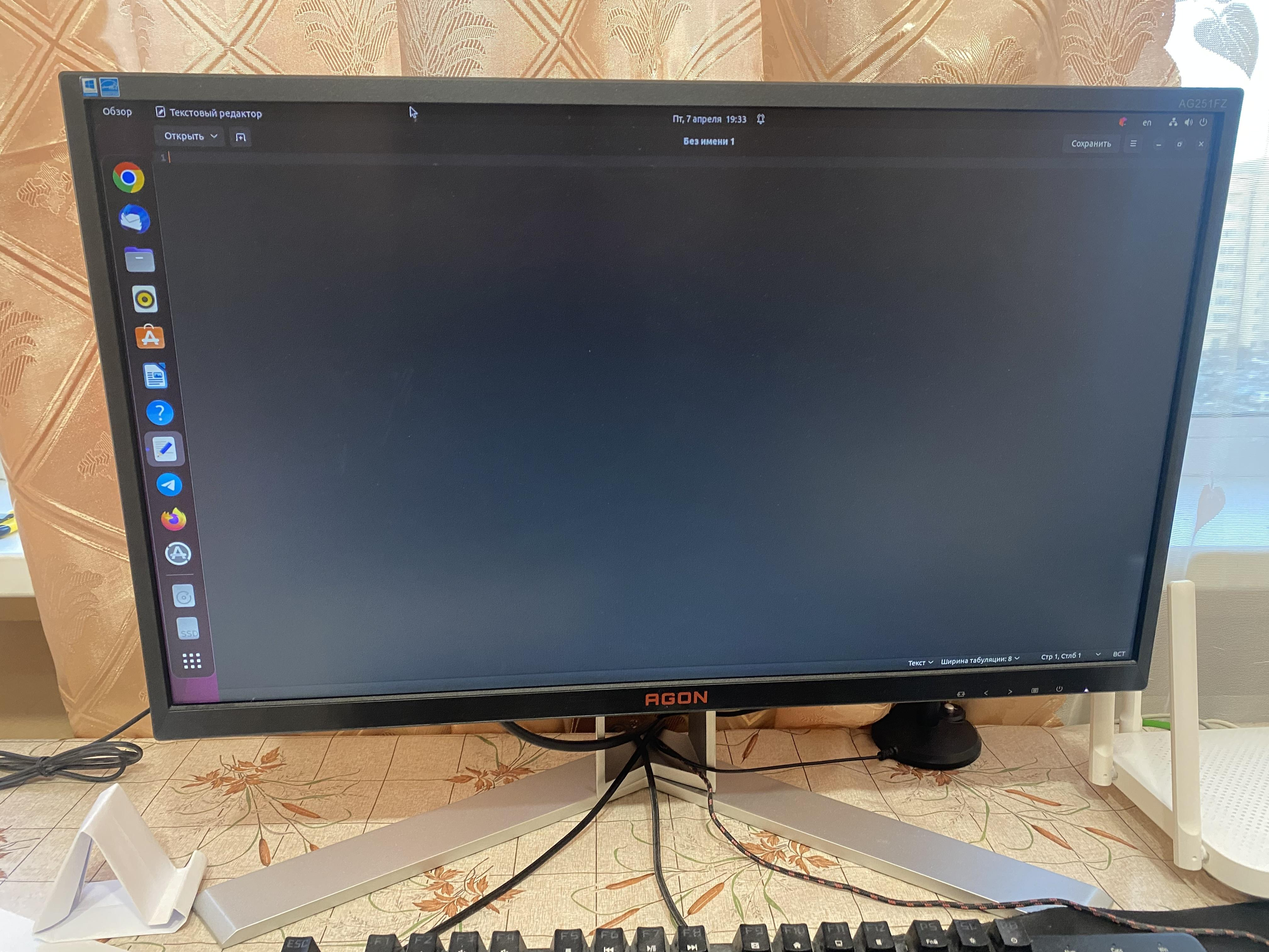monitor: (54, 71, 1246, 743)
